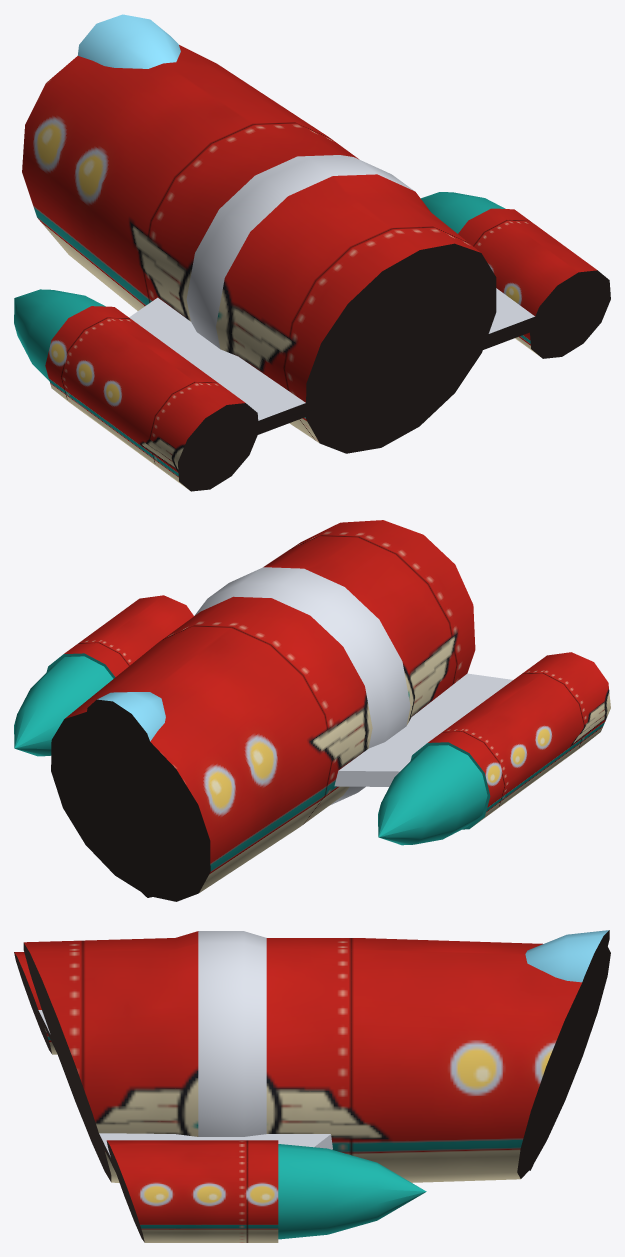
Rendered from meteor_debris2.obj.
3 renders of one model, top to bottom at view 1: azimuth 30°, elevation 25°; view 2: azimuth 150°, elevation 25°; view 3: azimuth 270°, elevation 25°, orthographic. The views are drawn at different scales.
Visible parts, largest first — view 1: hull, booster, pylon, canopy; view 2: hull, booster, pylon, canopy; view 3: hull, booster, canopy, pylon.
Part boxes in pixels (box(x1,y1,x2,y2)): hull: box(22, 45, 496, 453); booster: box(14, 192, 610, 491); pylon: box(129, 288, 547, 441); canopy: box(78, 14, 180, 68); hull: box(51, 520, 475, 901); booster: box(14, 595, 610, 845); pylon: box(334, 673, 512, 786); canopy: box(87, 692, 165, 774); hull: box(23, 931, 610, 1182); booster: box(14, 952, 426, 1242); canopy: box(525, 930, 609, 1026); pylon: box(36, 1006, 332, 1180).
Bounding box in the file's own units: 4.8 × 2.35 × 5.22.
5 materials, 1 textured.
